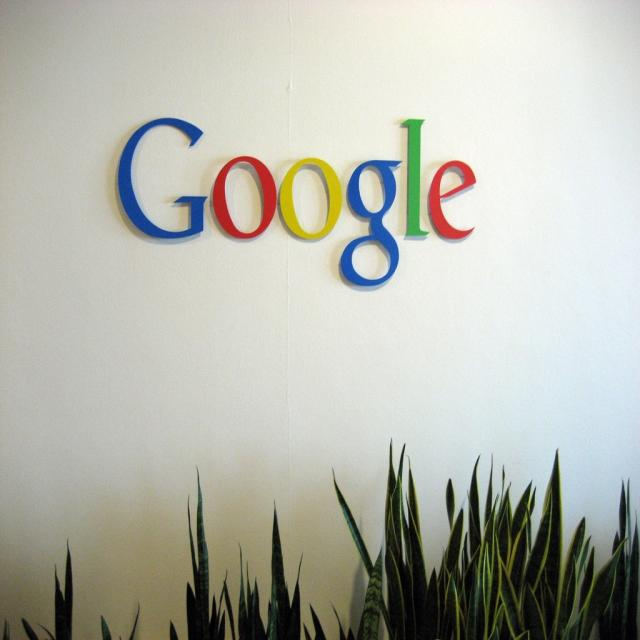google: (115, 109, 487, 296)
